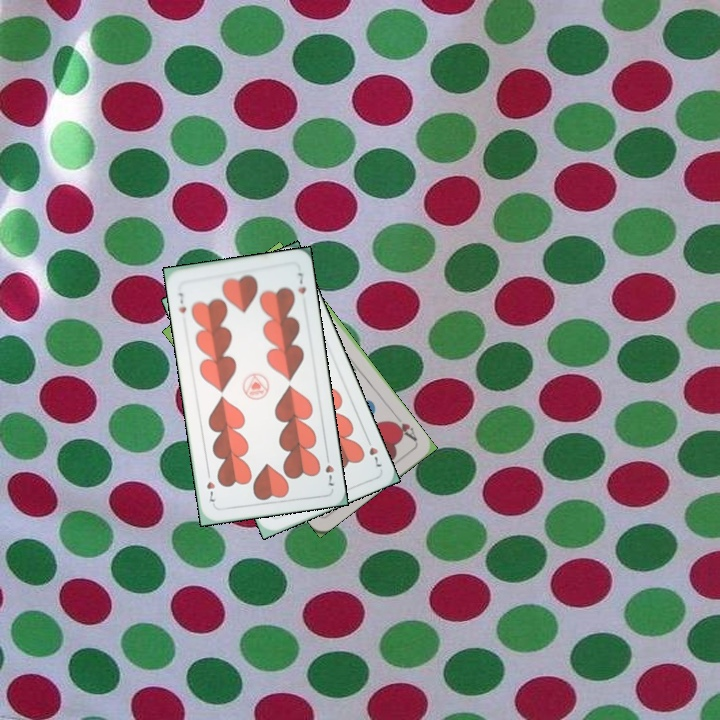H7: (362, 433, 385, 471), (321, 450, 337, 488), (175, 289, 189, 315)
HA: (387, 410, 420, 445)
